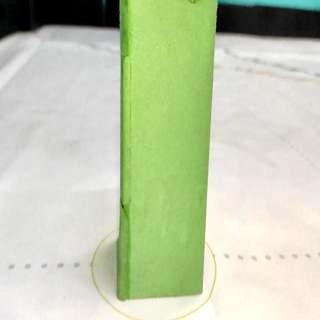greenbox: (121, 0, 207, 296)
